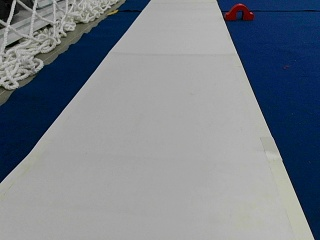bridge: (224, 4, 254, 19)
